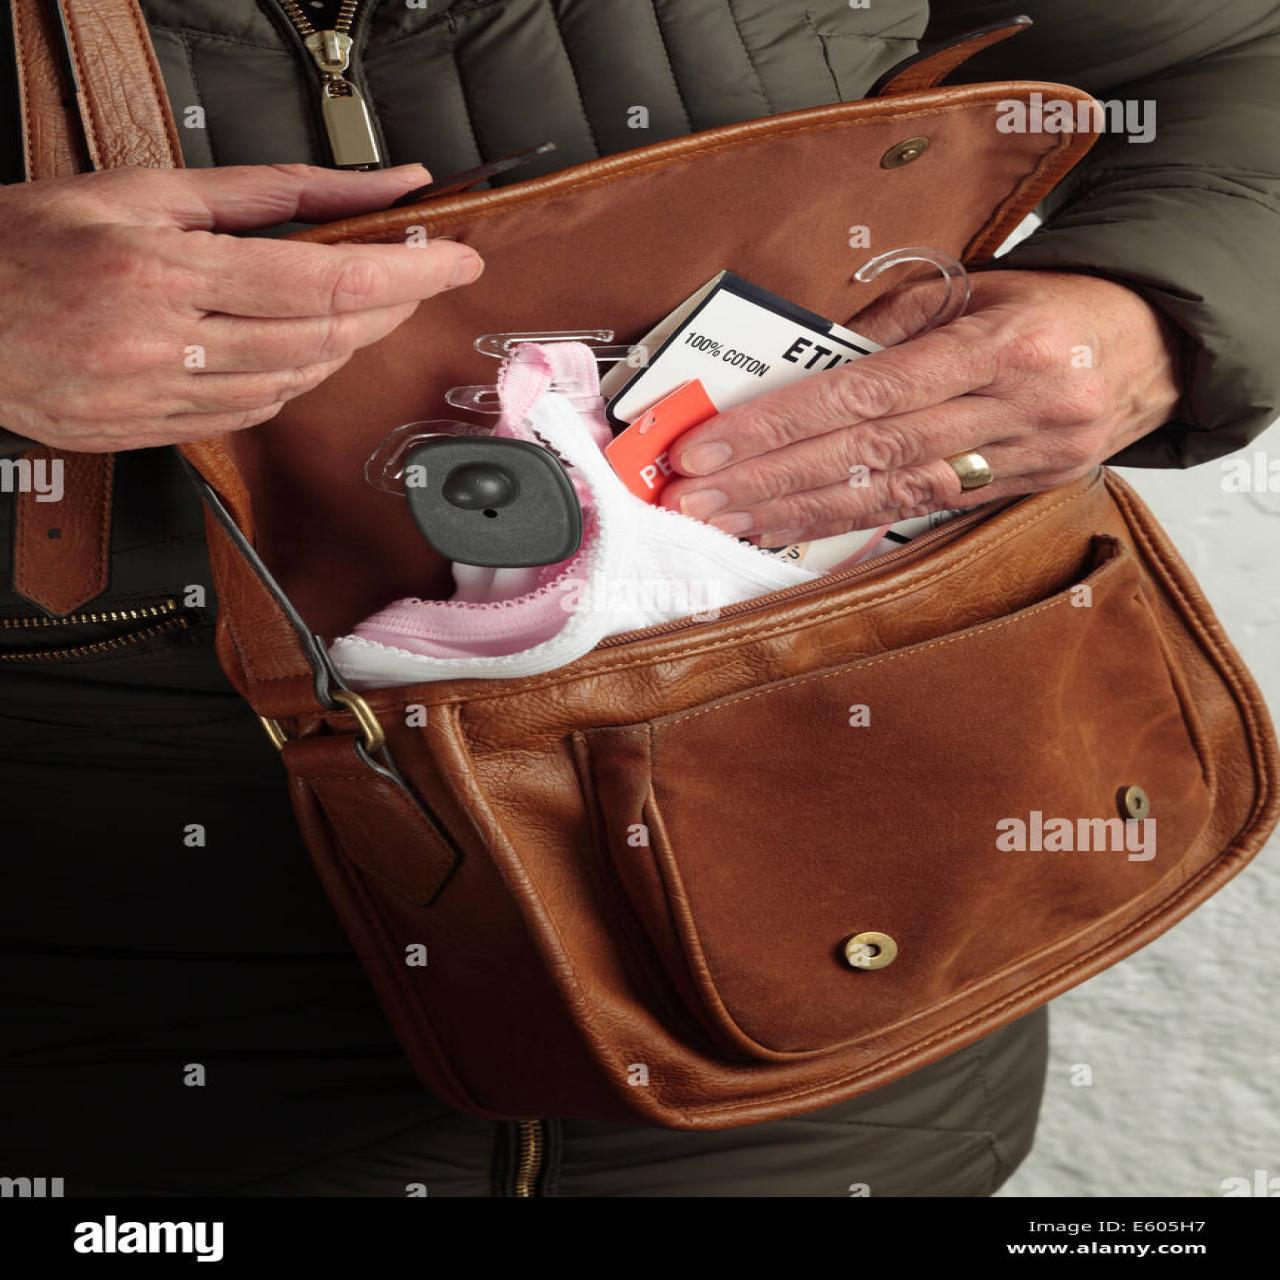Shoplifting: (20, 54, 1280, 837)
